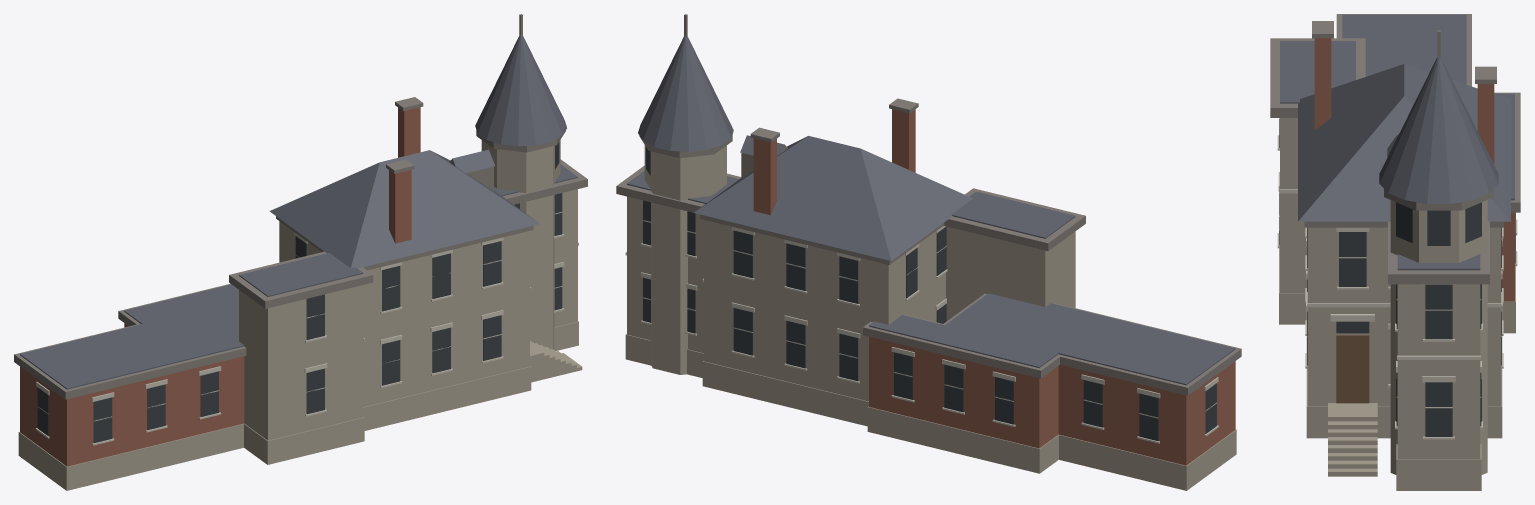
The model's file is murdoch_house_2130_prairie__draft_1904.glb.
3 renders of one model, left to right at view 1: azimuth 30°, elevation 25°; view 2: azimuth 150°, elevation 25°; view 3: azimuth 270°, elevation 25°, orthographic. The views are drawn at different scales.
Parts seen in each view (by area): view 1: murdoch_house_2130_prairie__draft_1904; view 2: murdoch_house_2130_prairie__draft_1904; view 3: murdoch_house_2130_prairie__draft_1904.
Part boxes in pixels (x1,y1,x2,y2): murdoch_house_2130_prairie__draft_1904: (14, 14, 587, 490); murdoch_house_2130_prairie__draft_1904: (616, 14, 1241, 490); murdoch_house_2130_prairie__draft_1904: (1270, 14, 1520, 490).
Bounding box in the file's own units: 29.8 × 17.3 × 9.05.
